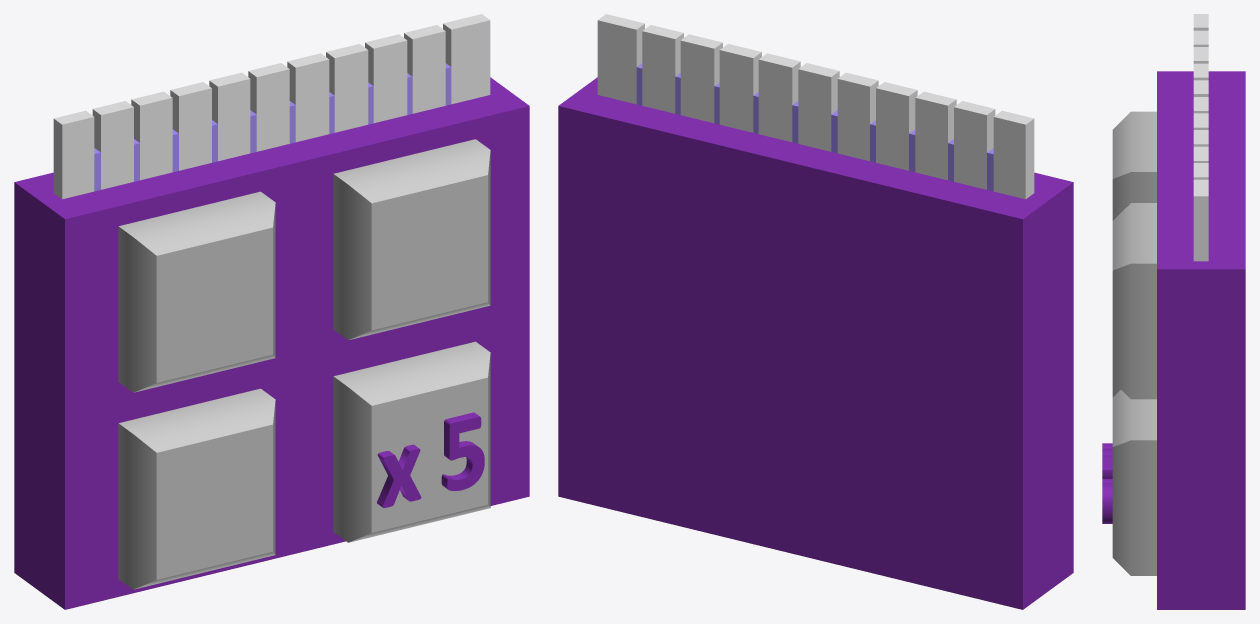
File: Ram_x5_Ani.fbx
3 views of the same model, side by side, from view 1: azimuth 30°, elevation 25°; view 2: azimuth 150°, elevation 25°; view 3: azimuth 270°, elevation 25° (orthographic). The views are drawn at different scales.
Parts seen in each view (by area): view 1: RAMx5; view 2: RAMx5; view 3: RAMx5.
Part boxes in pixels (<box>): RAMx5: <box>14,14,529,609</box>; RAMx5: <box>558,14,1073,609</box>; RAMx5: <box>1102,14,1245,609</box>.
Bounding box in the file's own units: 123 × 403 × 386.
